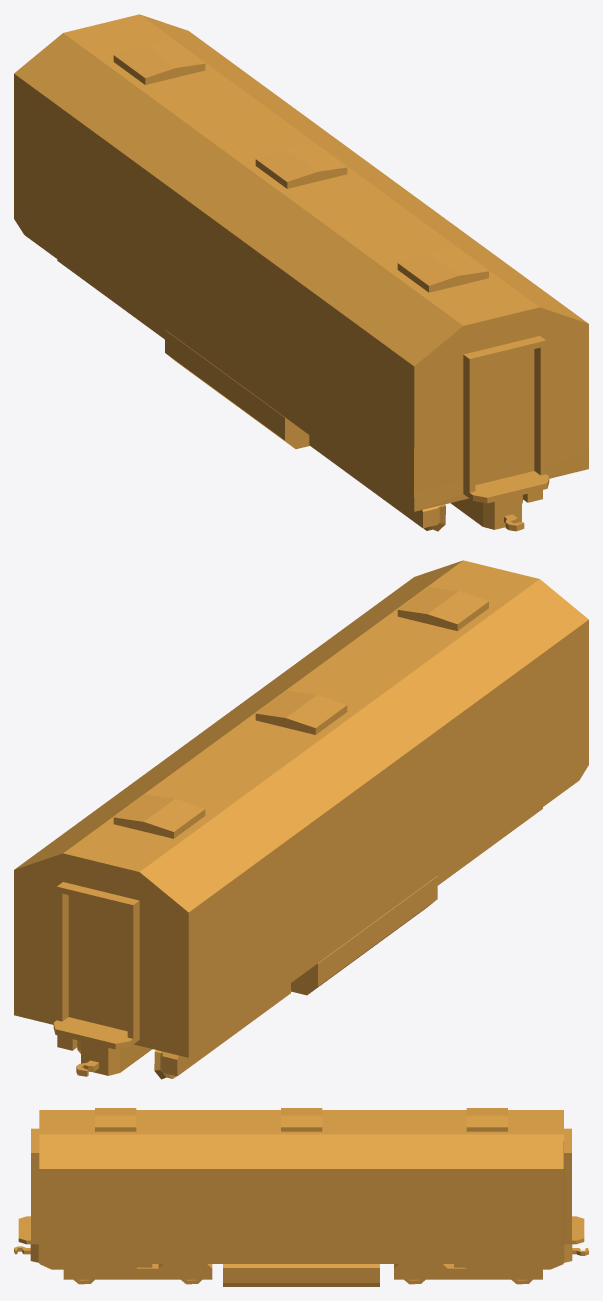
File: train-passenger-wagon.glb
3 views of the same model, one above another, from view 1: azimuth 30°, elevation 25°; view 2: azimuth 150°, elevation 25°; view 3: azimuth 270°, elevation 25° (orthographic). The views are drawn at different scales.
Parts seen in each view (by area): view 1: train-passenger-wagon-base, train-passenger-wagon-wheel-frame_F, train-passenger-wagon-wheel-frame_B; view 2: train-passenger-wagon-base, train-passenger-wagon-wheel-frame_B, train-passenger-wagon-wheel-frame_F; view 3: train-passenger-wagon-base, train-passenger-wagon-wheel-frame_F, train-passenger-wagon-wheel-frame_B.
Part boxes in pixels (x1,y1,x2,y2): train-passenger-wagon-base: (14, 14, 588, 531); train-passenger-wagon-wheel-frame_F: (309, 435, 542, 528); train-passenger-wagon-wheel-frame_B: (57, 259, 164, 339); train-passenger-wagon-base: (14, 560, 588, 1076); train-passenger-wagon-wheel-frame_B: (57, 983, 290, 1076); train-passenger-wagon-wheel-frame_F: (437, 807, 542, 885); train-passenger-wagon-base: (14, 1108, 588, 1286); train-passenger-wagon-wheel-frame_F: (63, 1264, 212, 1279); train-passenger-wagon-wheel-frame_B: (394, 1264, 542, 1279).
Bounding box in the file's own units: 3.2 × 4.17 × 13.92.
